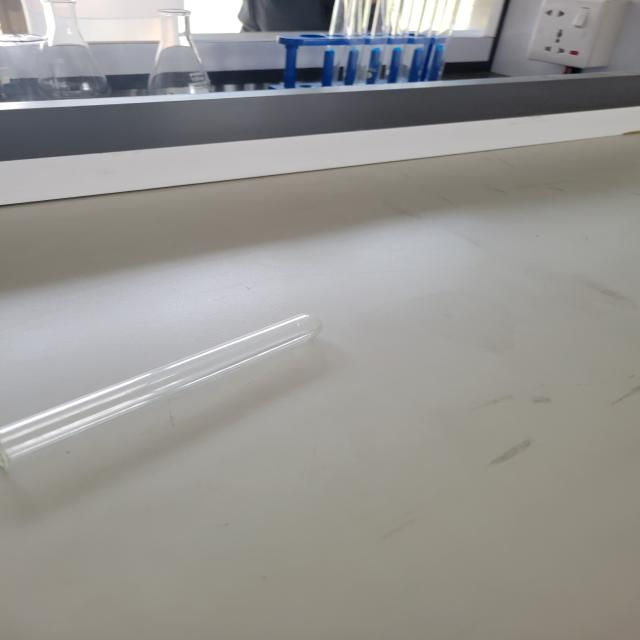Test_Tube: (4, 307, 357, 480)
